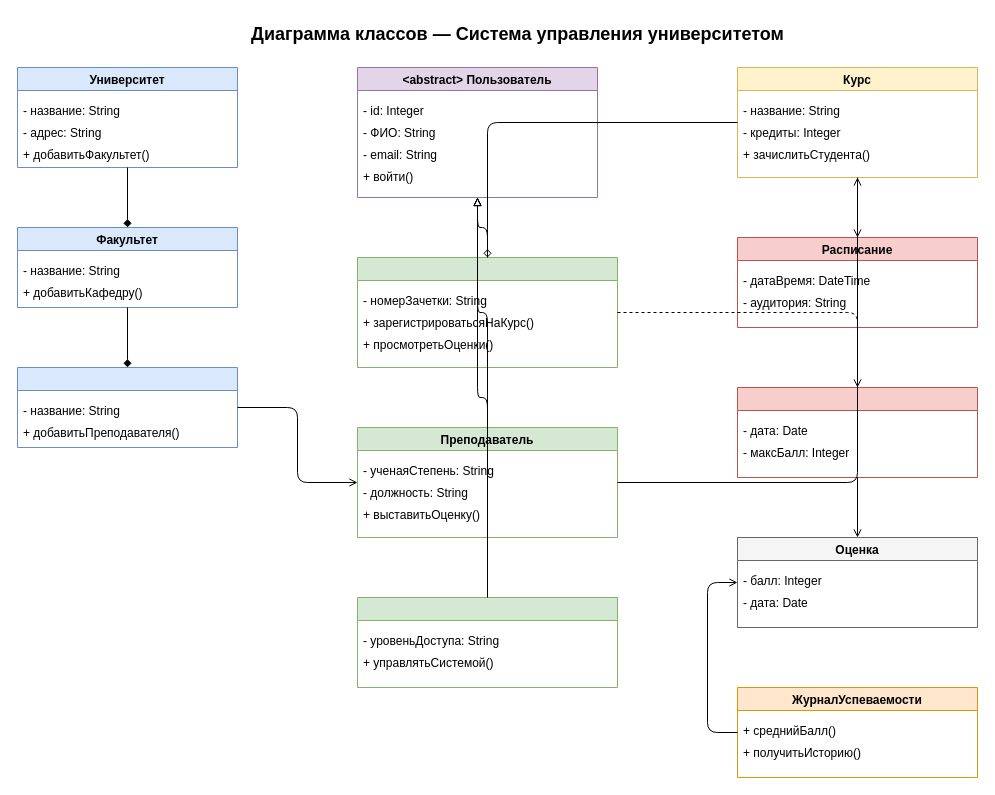
Some shapes in this 995 by 795 pixel diagram are drawn without their labels. Here are the shapes that lost their labels. From the top down, the box of each, then its label:
(356, 256, 618, 368): Студент
(16, 366, 238, 448): Кафедра
(736, 386, 978, 478): Экзамен
(356, 596, 618, 688): Администратор
